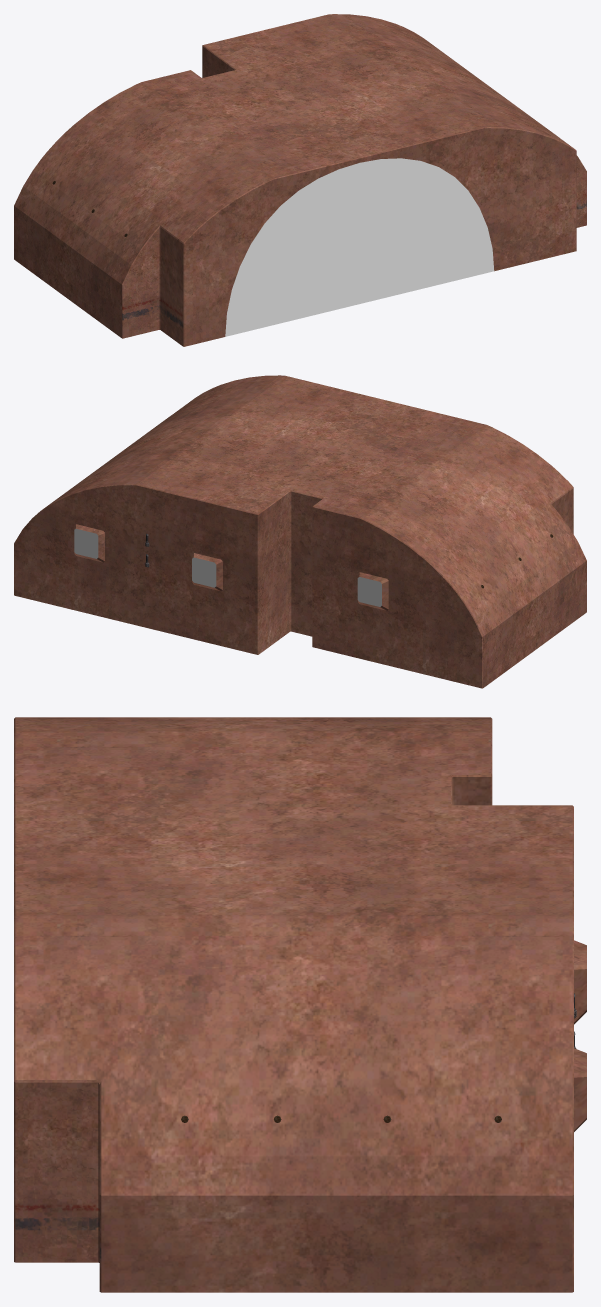
File: thm_nboo_cantina_r6_alcove3_mesh_r6.fbx
3 renders of one model, top to bottom at view 1: azimuth 30°, elevation 25°; view 2: azimuth 150°, elevation 25°; view 3: azimuth 270°, elevation 25°, orthographic. The views are drawn at different scales.
Visible parts, largest first — view 1: mesh_node; view 2: mesh_node; view 3: mesh_node.
Part boxes in pixels (bbox=[...]): mesh_node: bbox=[14, 14, 586, 346]; mesh_node: bbox=[14, 375, 586, 688]; mesh_node: bbox=[14, 717, 586, 1292].
Size of the model in its own units: 13.82 by 4.15 by 8.17.
